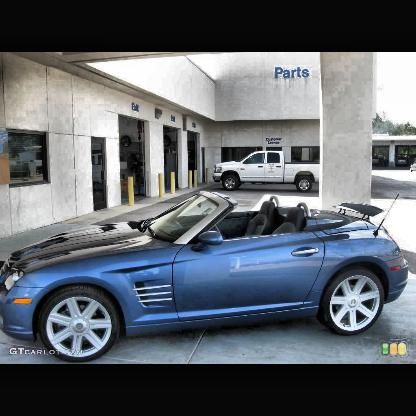Chrysler Crossfire Convertible 2008: (1, 192, 409, 360)
